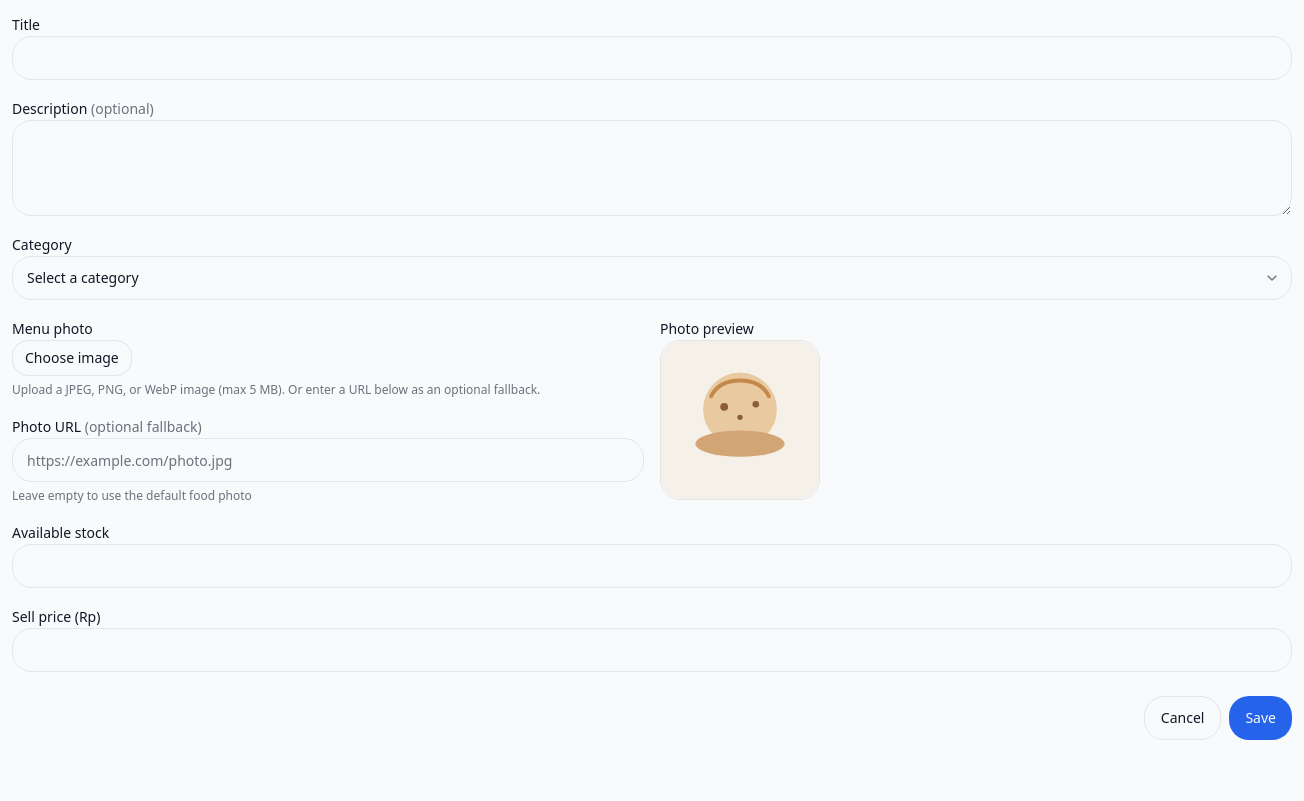
MenuForm › shows validation errors for invalid input
Click the button "Save": {"x": 1261, "y": 718} [1229, 696, 1292, 740]
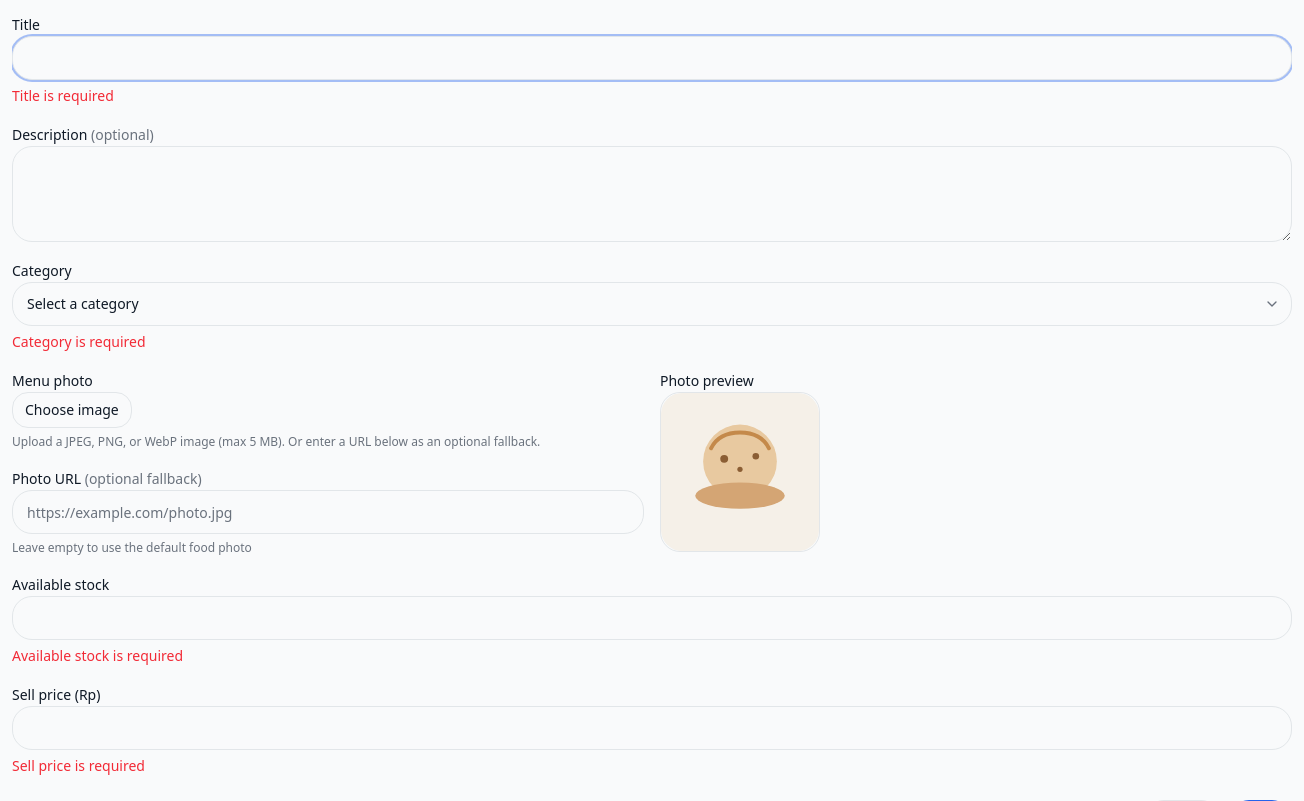
Check: the text "Title is required" is shown, box [12, 86, 114, 105]
